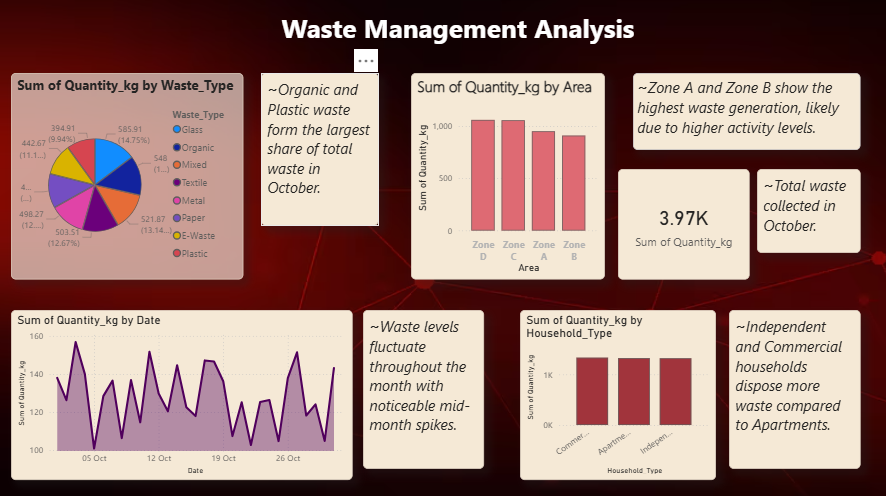

What the dashboard file says about the page in this screenshot:
{"tool":"powerbi","page":{"name":"Page 1","canvas":[1280,720],"ordinal":0},"visuals":[{"type":"pieChart","fields":{"Category":["WasteData.Waste_Type"],"Y":["Sum(WasteData.Quantity_kg)"]},"box":[20,113.3,331.7,295],"z":0},{"type":"clusteredColumnChart","fields":{"Category":["WasteData.Area"],"Y":["Sum(WasteData.Quantity_kg)"]},"box":[591.7,113.3,276.7,295],"z":1000},{"type":"lineChart","fields":{"Y":["Sum(WasteData.Quantity_kg)"],"Category":["WasteData.Date"]},"box":[20,442.5,488.8,243.8],"z":2000},{"type":"clusteredColumnChart","fields":{"Category":["WasteData.Household_Type"],"Y":["Sum(WasteData.Quantity_kg)"]},"box":[746.2,442.5,280,243.8],"z":3000},{"type":"card","fields":{"Values":["Sum(WasteData.Quantity_kg)"]},"box":[886.7,250,188.3,158.3],"z":4000},{"type":"textbox","box":[376.7,113.3,168.3,218.3],"z":5000},{"type":"textbox","box":[908.3,113.3,325,110],"z":6000},{"type":"textbox","box":[523.8,442.5,172.5,227.5],"z":7000},{"type":"textbox","box":[1045,442.5,188.8,227.5],"z":8000},{"type":"textbox","box":[1085,250,148.3,120],"z":9000},{"type":"textbox","box":[401.7,16.7,590,75],"z":10000}]}

Visuals, with their boxes in screenshot pixels (x1, y1, x2, y2), scaled from the page's 1280x720 canvas onto the 886x496 screenshot:
pieChart - WasteData.Waste_Type x Sum(WasteData.Quantity_kg): 14,78,243,281
clusteredColumnChart - WasteData.Area x Sum(WasteData.Quantity_kg): 410,78,601,281
lineChart - Sum(WasteData.Quantity_kg) x WasteData.Date: 14,305,352,473
clusteredColumnChart - WasteData.Household_Type x Sum(WasteData.Quantity_kg): 517,305,710,473
card - Sum(WasteData.Quantity_kg): 614,172,744,281
textbox: 261,78,377,228
textbox: 629,78,854,154
textbox: 363,305,482,462
textbox: 723,305,854,462
textbox: 751,172,854,255
textbox: 278,12,686,63
